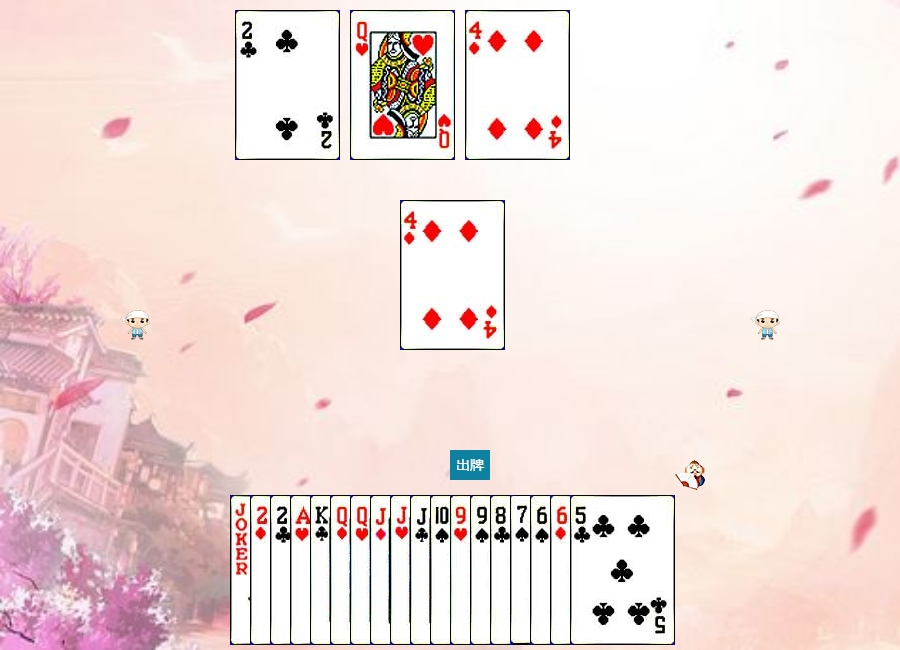10~4: (430, 495, 535, 645)
11~1: (370, 495, 475, 645)
11~2: (410, 495, 515, 645)
11~3: (390, 495, 495, 645)
12~1: (330, 495, 435, 645)
12~3: (350, 10, 455, 160), (350, 495, 455, 645)
13~2: (310, 495, 415, 645)
14~3: (290, 495, 395, 645)
15~1: (250, 495, 355, 645)
15~2: (235, 10, 340, 160), (270, 495, 375, 645)
18~4: (230, 495, 335, 645)
4~1: (465, 10, 570, 160), (400, 200, 505, 350)
5~2: (570, 495, 675, 645)
6~1: (550, 495, 655, 645)
6~4: (530, 495, 635, 645)
7~4: (510, 495, 615, 645)
8~2: (490, 495, 595, 645)
9~3: (450, 495, 555, 645)
9~4: (470, 495, 575, 645)
